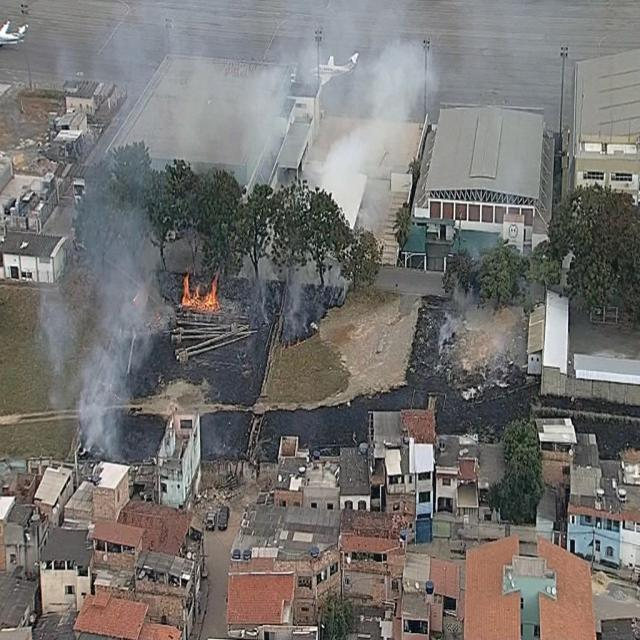Fire: (182, 270, 219, 310)
Smoke: (58, 2, 438, 205), (39, 140, 172, 459), (238, 221, 342, 338)
